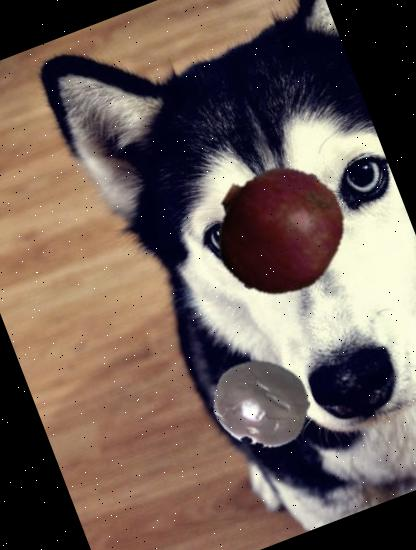Passion: (196, 339, 325, 468)
Pomegranate: (192, 144, 362, 314)
